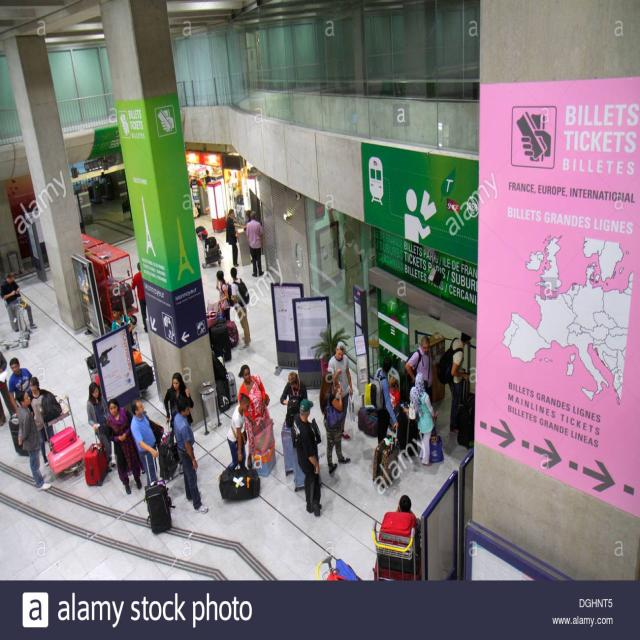body: (172, 395, 209, 515), (236, 363, 276, 469), (15, 388, 53, 493), (436, 331, 472, 438), (318, 369, 353, 476), (104, 398, 142, 495), (293, 398, 323, 518), (163, 372, 194, 474), (129, 397, 160, 486), (327, 340, 354, 442), (27, 376, 56, 466), (369, 356, 398, 444), (0, 271, 39, 336), (86, 381, 113, 473), (226, 393, 256, 470), (413, 370, 436, 467), (404, 335, 434, 406), (402, 184, 434, 246), (229, 266, 252, 351), (7, 356, 35, 419), (0, 350, 18, 427), (245, 210, 265, 277), (130, 261, 148, 334), (280, 370, 308, 406), (224, 207, 240, 268), (110, 303, 135, 334), (216, 269, 231, 320), (333, 223, 349, 269), (242, 209, 252, 264), (395, 494, 416, 519), (388, 376, 401, 411), (202, 167, 215, 188)
